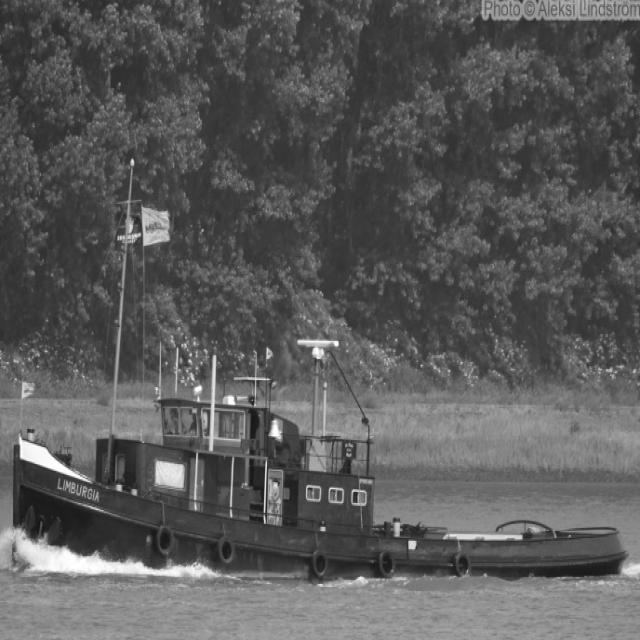tugboat: (9, 155, 634, 595)
